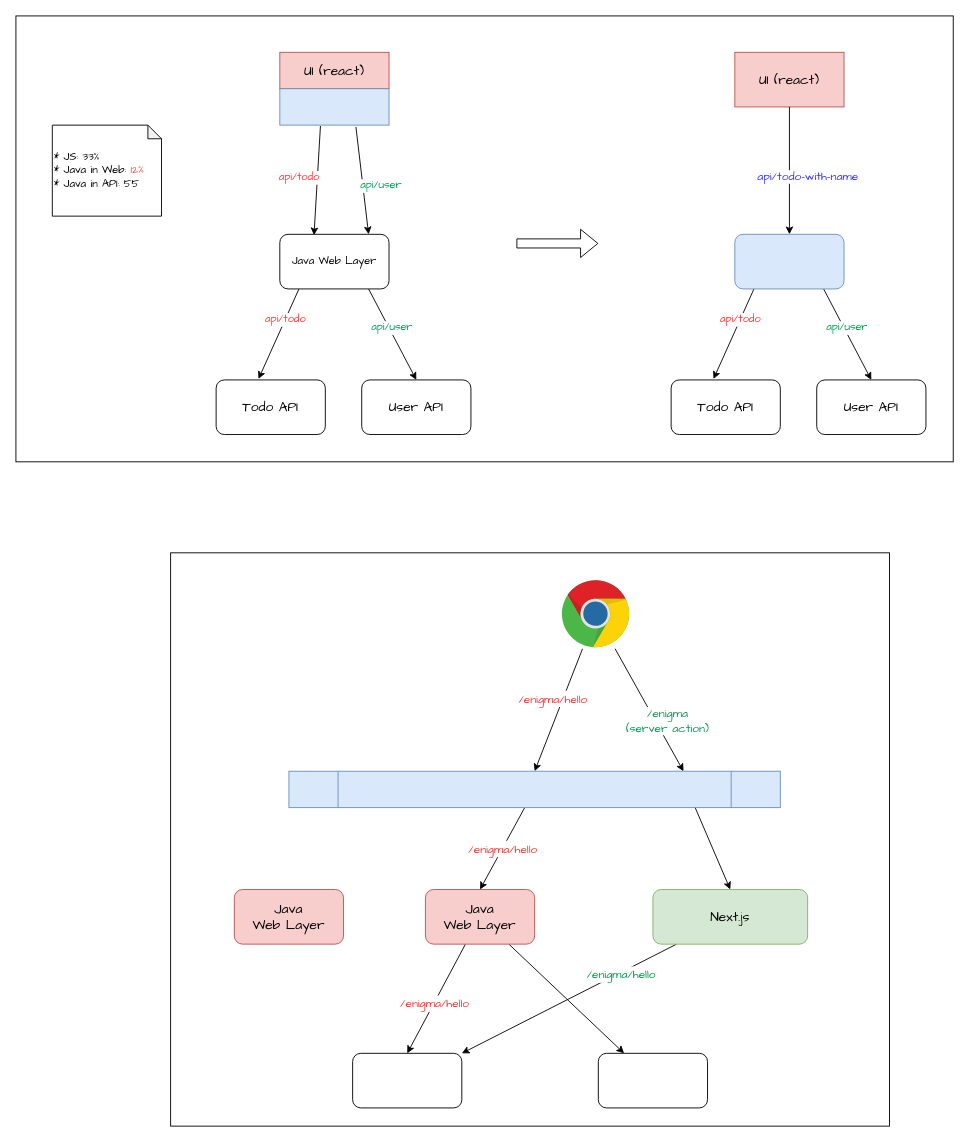
Image size: 969x1142. Some labels were removed from this diagram. The shapes that lost their labels are listed below. From the top down, each one's centre as x and y in pixels, then its label:
point (334, 106): JS aggregation
point (789, 261): BFF (JS aggregation)
point (534, 789): Api Gateway(zuul, auth)
point (407, 1080): Enigma API
point (652, 1080): Other API
